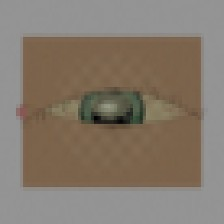corneal_ulcer: (79, 80, 143, 131)
